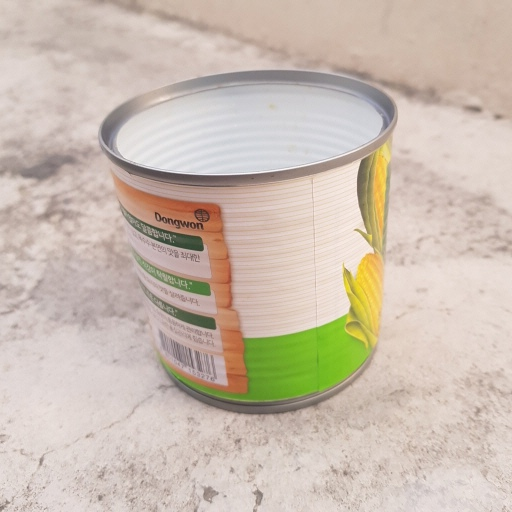Metal_1: (95, 68, 401, 412)
